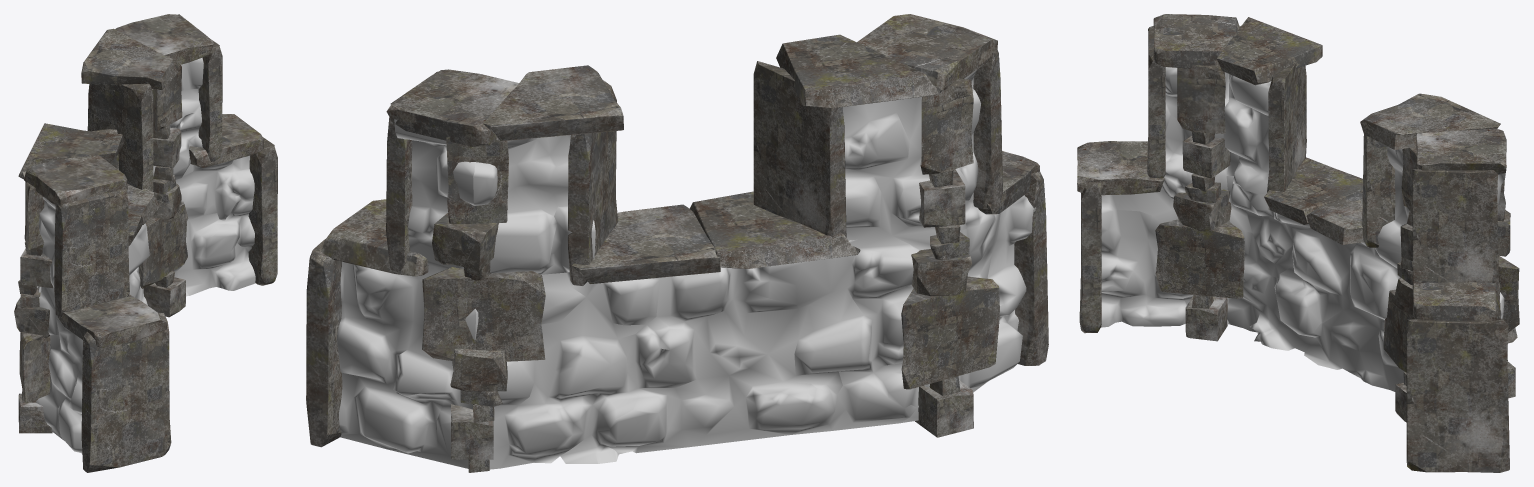
File: SM_Crenel_A_04.fbx
The picture shows the model from 3 angles, left to right: view 1: azimuth 30°, elevation 25°; view 2: azimuth 150°, elevation 25°; view 3: azimuth 270°, elevation 25°; orthographic projection. The views are drawn at different scales.
Visible parts, largest first — view 1: SM_Crenel_A_04_LOD0; view 2: SM_Crenel_A_04_LOD0; view 3: SM_Crenel_A_04_LOD0.
Part boxes in pixels (x1,y1,x2,y2): SM_Crenel_A_04_LOD0: (14, 14, 277, 472); SM_Crenel_A_04_LOD0: (306, 14, 1048, 472); SM_Crenel_A_04_LOD0: (1077, 14, 1519, 472).
Size of the model in its own units: 332 by 328 by 233.
